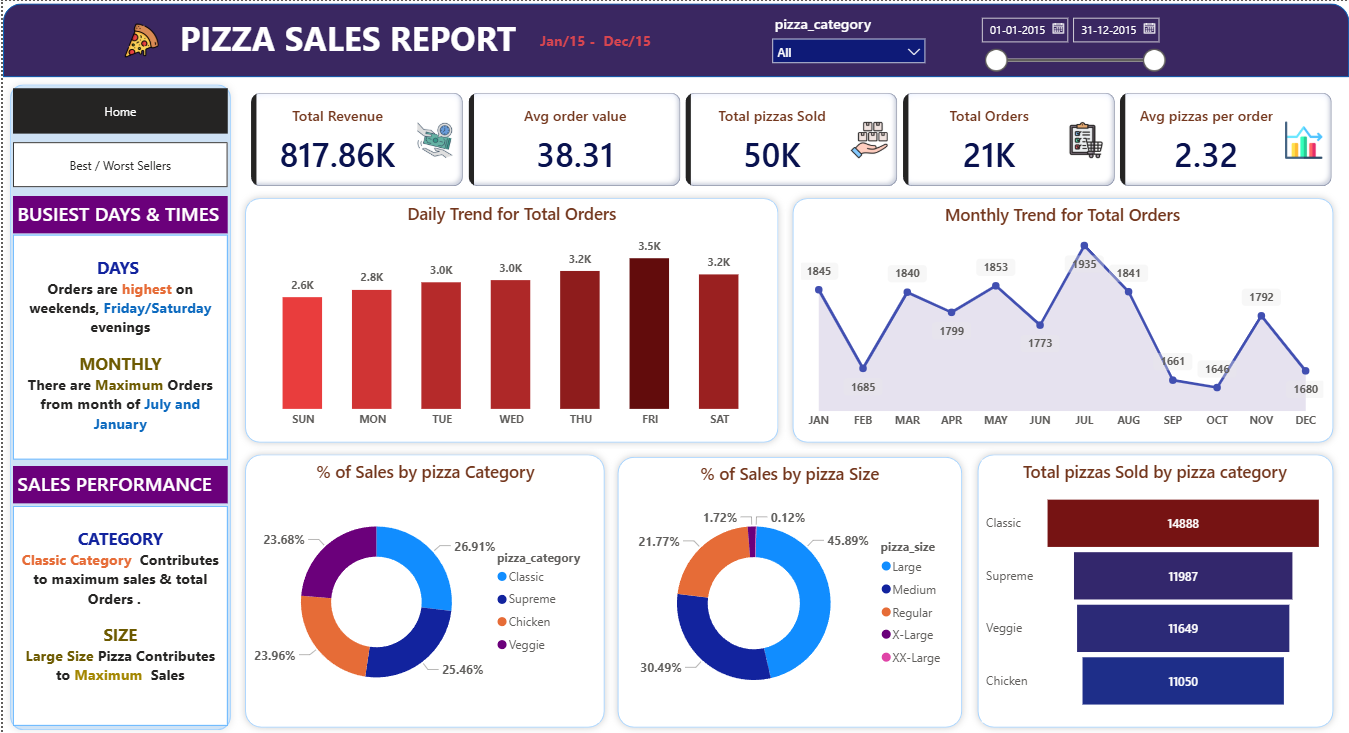

The page's visual inventory and layout, read from the dashboard file:
{"tool":"powerbi","page":{"name":"Home","canvas":[1500,820],"ordinal":0},"visuals":[{"type":"cardVisual","fields":{"Data":["Measures (2).Total Revenue","Measures (2).Avg order value","Measures (2).Total pizzas Sold","Measures (2).Total Orders","Measures (2).Avg pizzas per order"]},"box":[271.6,97.5,1218.6,114.2],"z":0},{"type":"shape","box":[0,2.8,1499.9,82.2],"z":1000},{"type":"textbox","box":[192.2,11.1,401.1,62.7],"z":2000},{"type":"textbox","box":[593.3,27.9,143.4,32],"z":3000},{"type":"image","box":[130.9,8.4,47.4,71],"z":4000},{"type":"shape","box":[261.8,211.7,610,288.3],"z":5000},{"type":"columnChart","title":"Daily Trend for Total Orders ","fields":{"Y":["Measures (2).Total Orders"],"Category":["pizza_sales.Order day"]},"box":[275.7,224.2,582.1,260.4],"z":6000},{"type":"shape","box":[871.8,211.7,618.3,288.3],"z":7000},{"type":"areaChart","title":"Monthly Trend  for Total Orders","fields":{"Category":["pizza_sales.Order month"],"Y":["Measures (2).Total Orders"]},"box":[884.3,225.6,591.9,260.4],"z":8000},{"type":"shape","box":[261.8,497.2,416.4,320.3],"z":9000},{"type":"shape","box":[676.8,500,399.7,317.5],"z":10000},{"type":"shape","box":[1077.9,497.2,412.2,320.3],"z":11000},{"type":"donutChart","title":"% of Sales by pizza Category","fields":{"Y":["Measures (2).Total Revenue"],"Category":["pizza_sales.pizza_category"]},"box":[277.1,511.1,387.2,292.5],"z":12000},{"type":"donutChart","title":"% of Sales by pizza Size","fields":{"Y":["Measures (2).Total Revenue"],"Category":["pizza_sales.pizza_size"]},"box":[690.8,513.9,371.8,289.7],"z":13000},{"type":"funnel","title":"Total pizzas Sold by pizza category","fields":{"Y":["Measures (2).Total pizzas Sold"],"Category":["pizza_sales.pizza_category"]},"box":[1090.5,511.1,385.8,292.5],"z":14000},{"type":"shape","box":[0,85,261.8,735.3],"z":15000},{"type":"textbox","box":[11.1,217.3,239.5,41.8],"z":16000},{"type":"textbox","box":[11.1,260.4,239.5,250.7],"z":17000},{"type":"textbox","box":[11.1,518.1,239.5,41.8],"z":18000},{"type":"textbox","box":[11.1,562.6,239.5,245.1],"z":19000},{"type":"slicer","fields":{"Values":["pizza_sales.pizza_category"]},"box":[846.7,8.4,190.8,62.7],"z":20000},{"type":"slicer","fields":{"Values":["pizza_sales.order_date"]},"box":[1077.9,8.4,225.6,71],"z":21000},{"type":"pageNavigator","box":[11.1,97.5,239.5,50.1],"z":22000},{"type":"pageNavigator","box":[11.1,157.4,239.5,50.1],"z":23000}]}

Visuals, with their boxes in screenshot pixels (x1, y1, x2, y2), scaled from the page's 1500x820 canvas onto the 1349x733 screenshot:
cardVisual - Measures (2).Total Revenue x Measures (2).Avg order value: (244,87,1340,189)
shape: (0,3,1348,76)
textbox: (173,10,534,66)
textbox: (534,25,663,54)
image: (118,8,160,71)
shape: (235,189,784,447)
"Daily Trend for Total Orders " columnChart: (248,200,771,433)
shape: (784,189,1340,447)
"Monthly Trend  for Total Orders" areaChart: (795,202,1328,434)
shape: (235,444,610,731)
shape: (609,447,968,731)
shape: (969,444,1340,731)
"% of Sales by pizza Category" donutChart: (249,457,597,718)
"% of Sales by pizza Size" donutChart: (621,459,956,718)
"Total pizzas Sold by pizza category" funnel: (981,457,1328,718)
shape: (0,76,235,732)
textbox: (10,194,225,232)
textbox: (10,233,225,457)
textbox: (10,463,225,500)
textbox: (10,503,225,722)
slicer - pizza_sales.pizza_category: (761,8,933,64)
slicer - pizza_sales.order_date: (969,8,1172,71)
pageNavigator: (10,87,225,132)
pageNavigator: (10,141,225,185)
